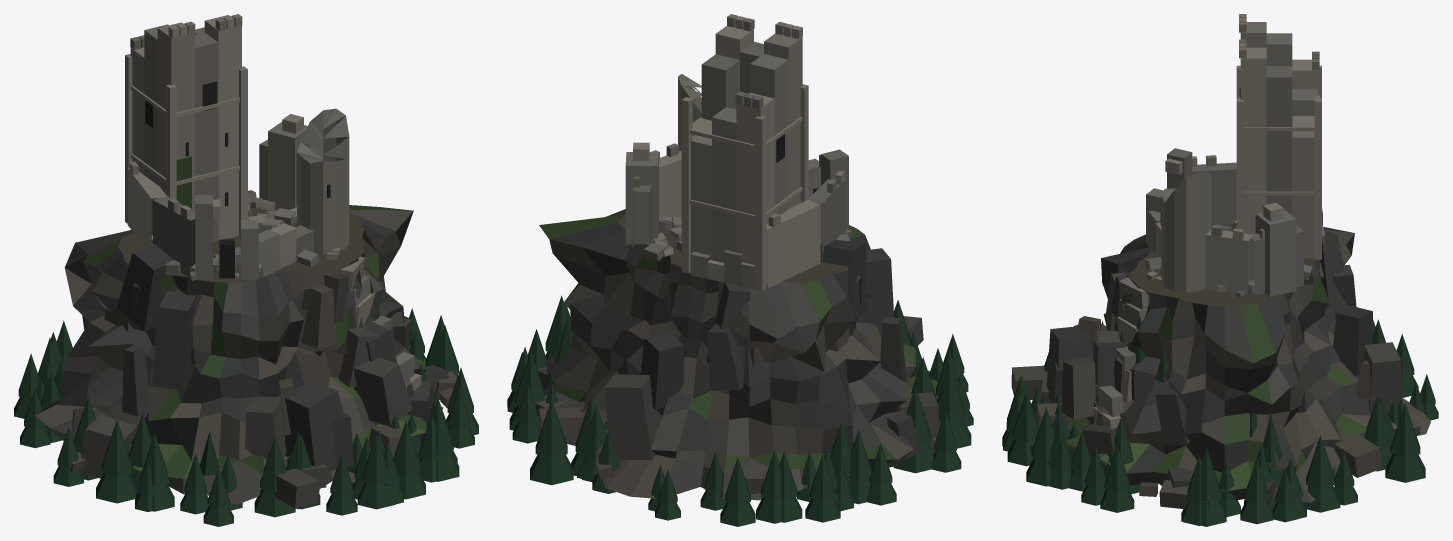
File: eifel-castle.glb
3 renders of one model, left to right at view 1: azimuth 30°, elevation 25°; view 2: azimuth 150°, elevation 25°; view 3: azimuth 270°, elevation 25°, orthographic. The views are drawn at different scales.
Parts seen in each view (by area): view 1: eifel-castle; view 2: eifel-castle; view 3: eifel-castle.
Part boxes in pixels (bbox=[...]): eifel-castle: bbox=[14, 14, 478, 526]; eifel-castle: bbox=[507, 14, 973, 526]; eifel-castle: bbox=[1002, 14, 1438, 526].
Bounding box in the file's own units: 53.94 × 51.4 × 52.58.
